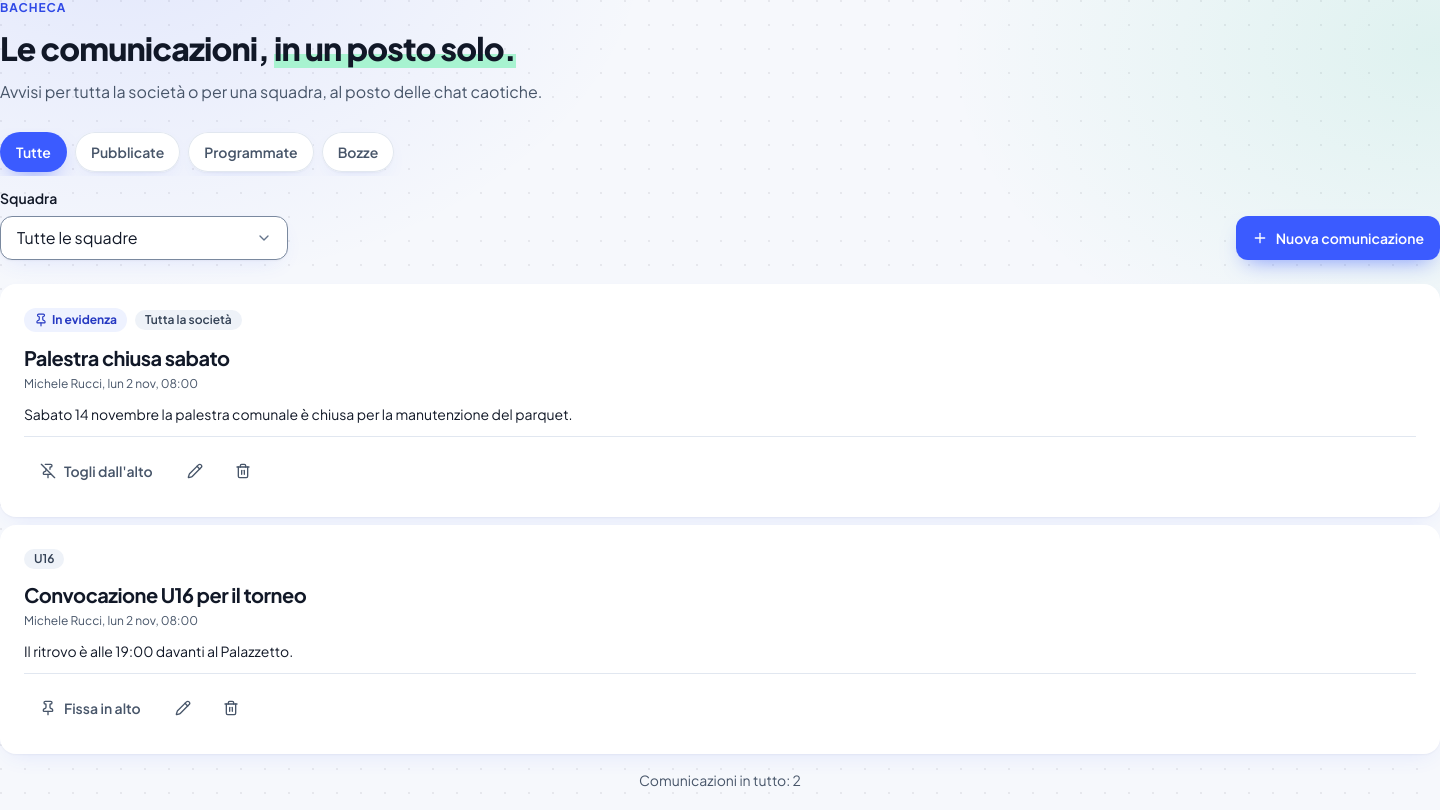
Test: BachecaPage as a manager › refuses a scheduled publication in the past
The image size is (1440, 810).
Click the button "Nuova comunicazione": (1338, 238) [1236, 216, 1439, 260]
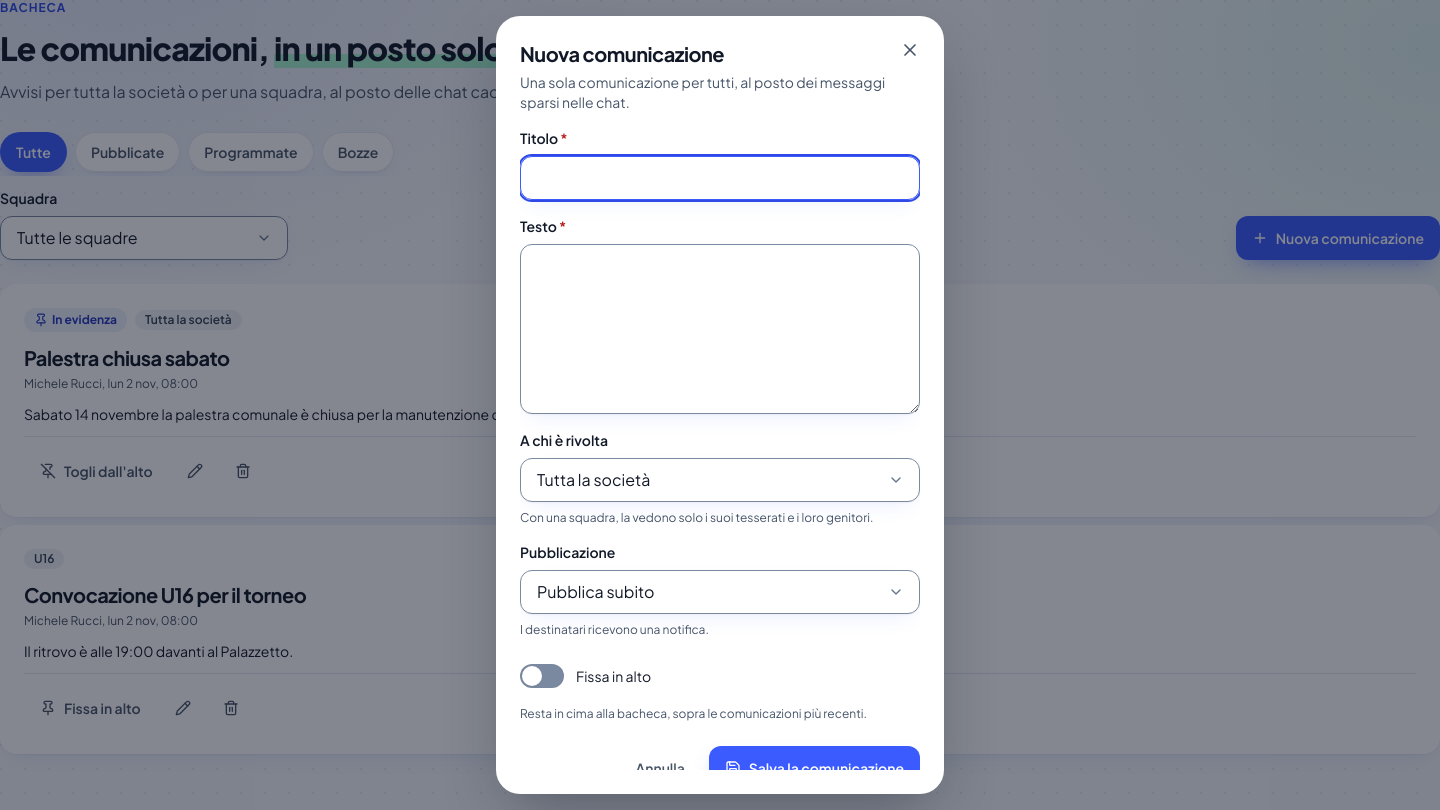
In the field labelled "Titolo*": (720, 178) [520, 156, 920, 200], type "Iscrizioni"
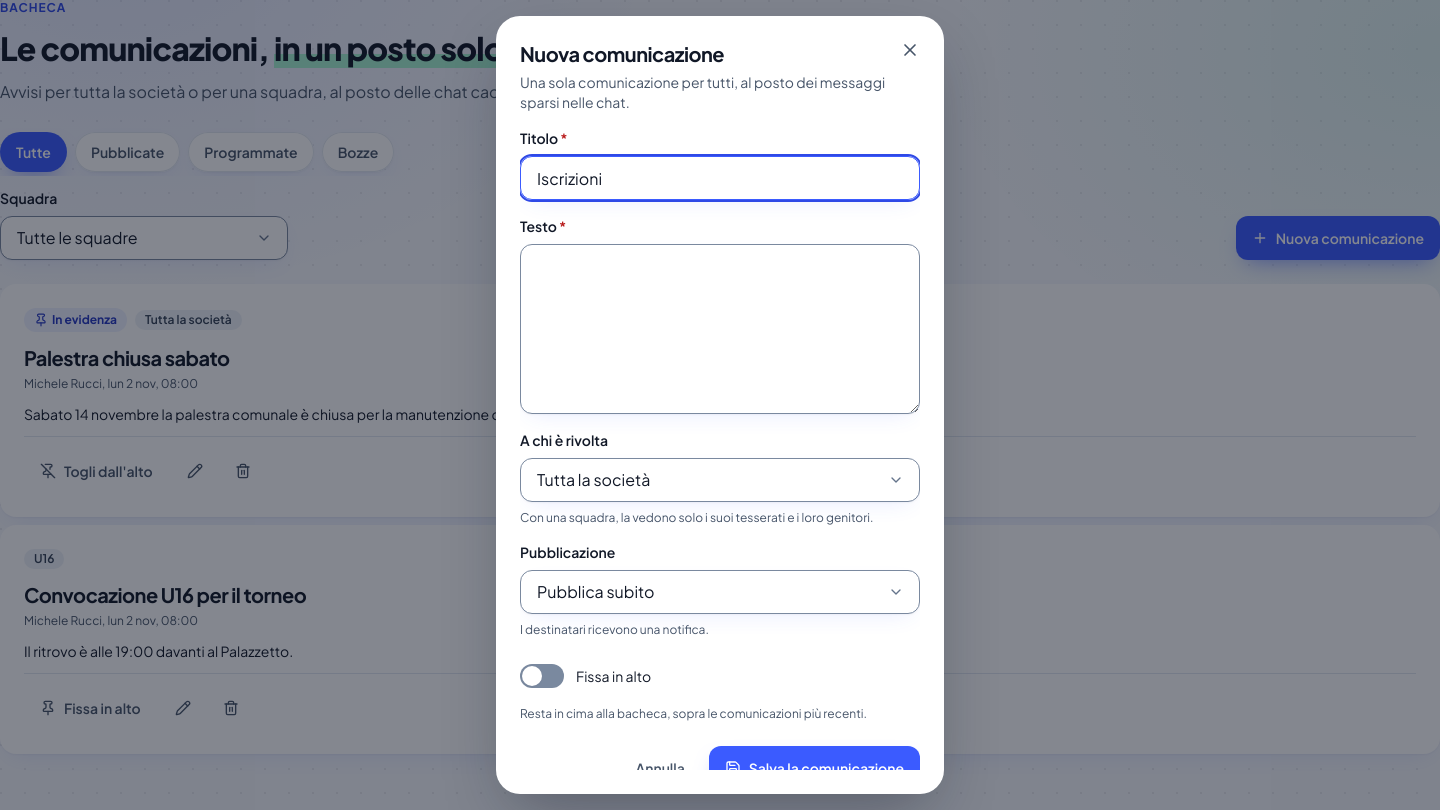
In the text box labelled "Testo*": (720, 329) [520, 244, 920, 414], type "Aperte da lunedì."
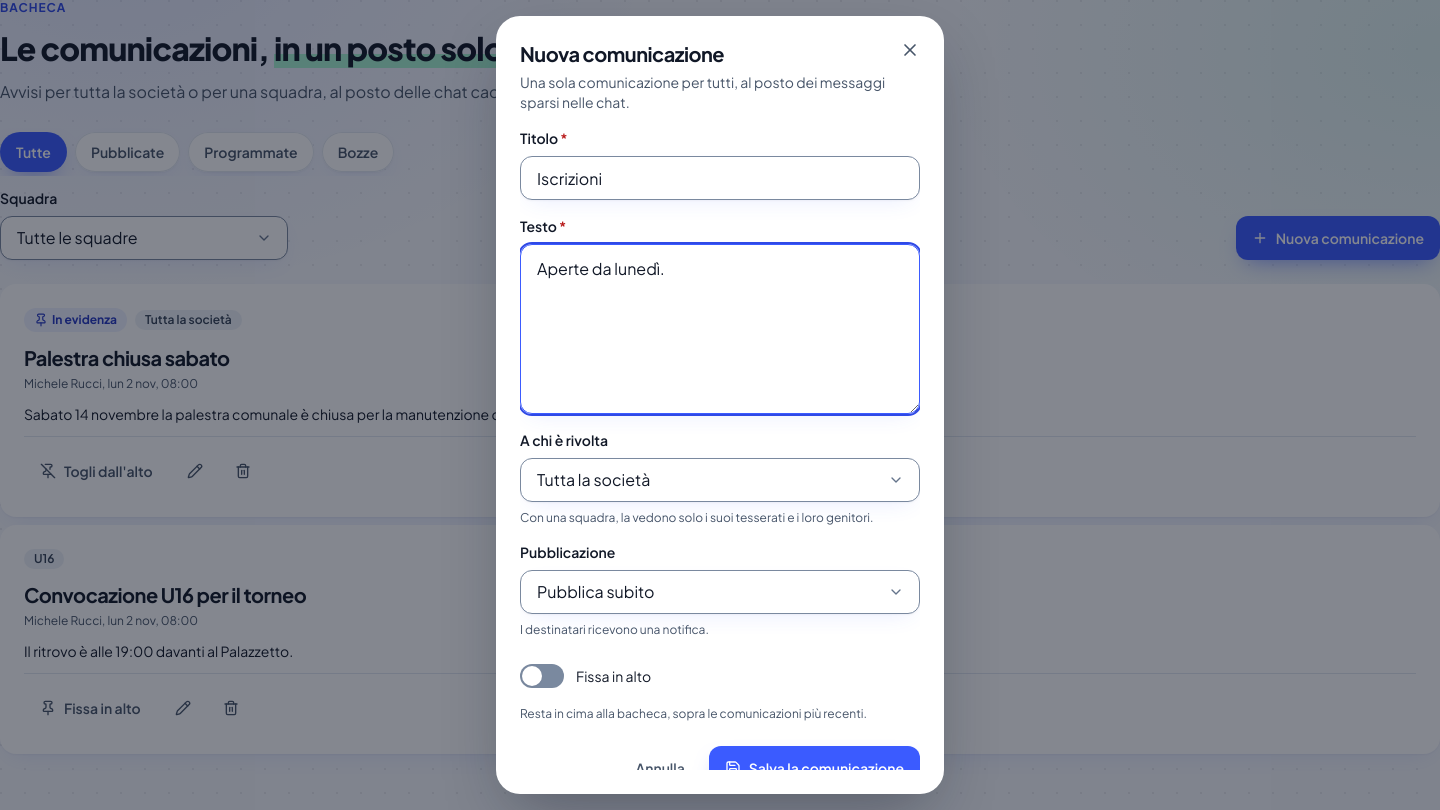
Select "Programma la pubblicazione" in the dropdown labelled "Pubblicazione": (720, 592) [520, 570, 920, 614]
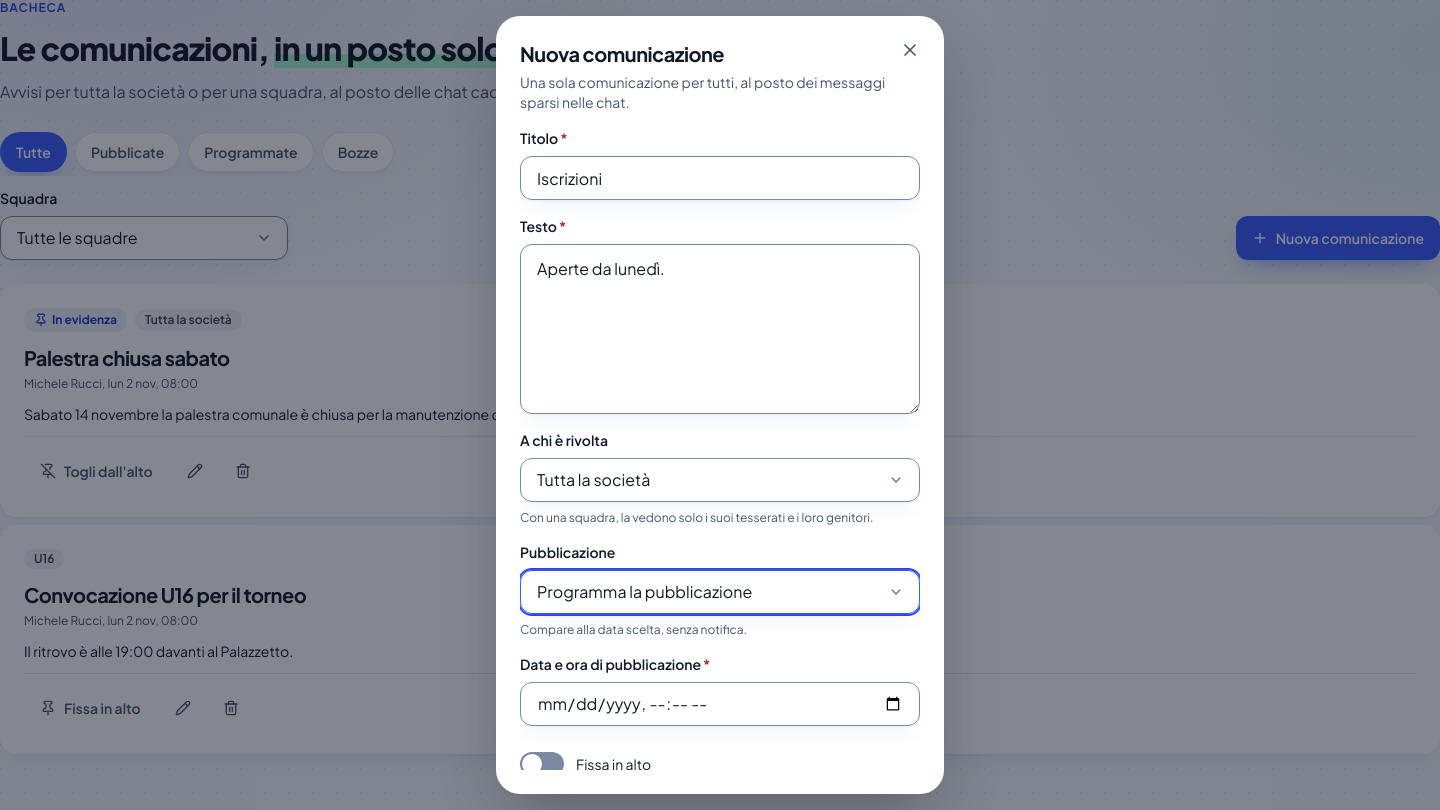
In the field labelled "Data e ora di pubblicazione*": (720, 704) [520, 682, 920, 726], type "2020-01-01T10:00"
(page scrolled)
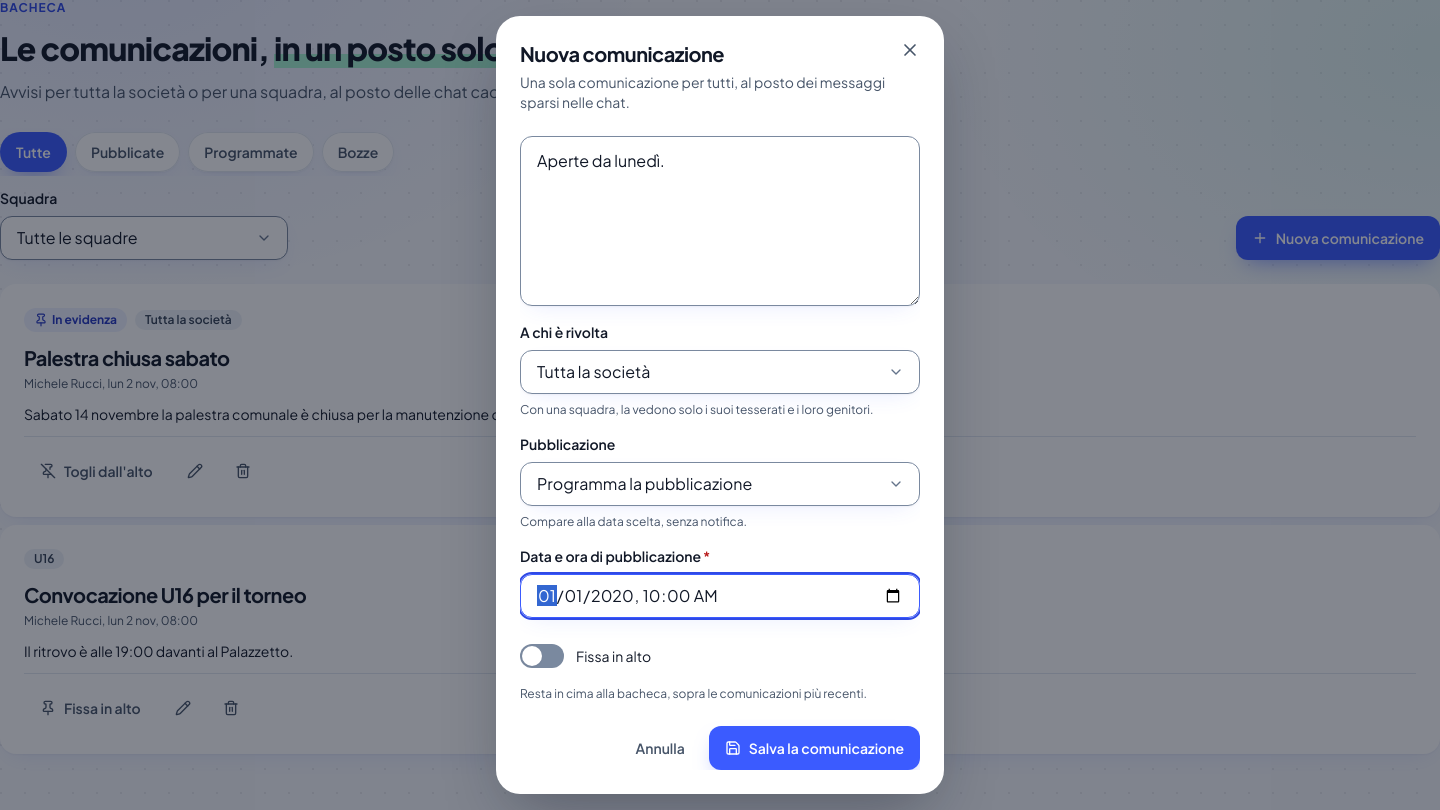
Click the button "Salva la comunicazione": (814, 748) [709, 726, 920, 770]
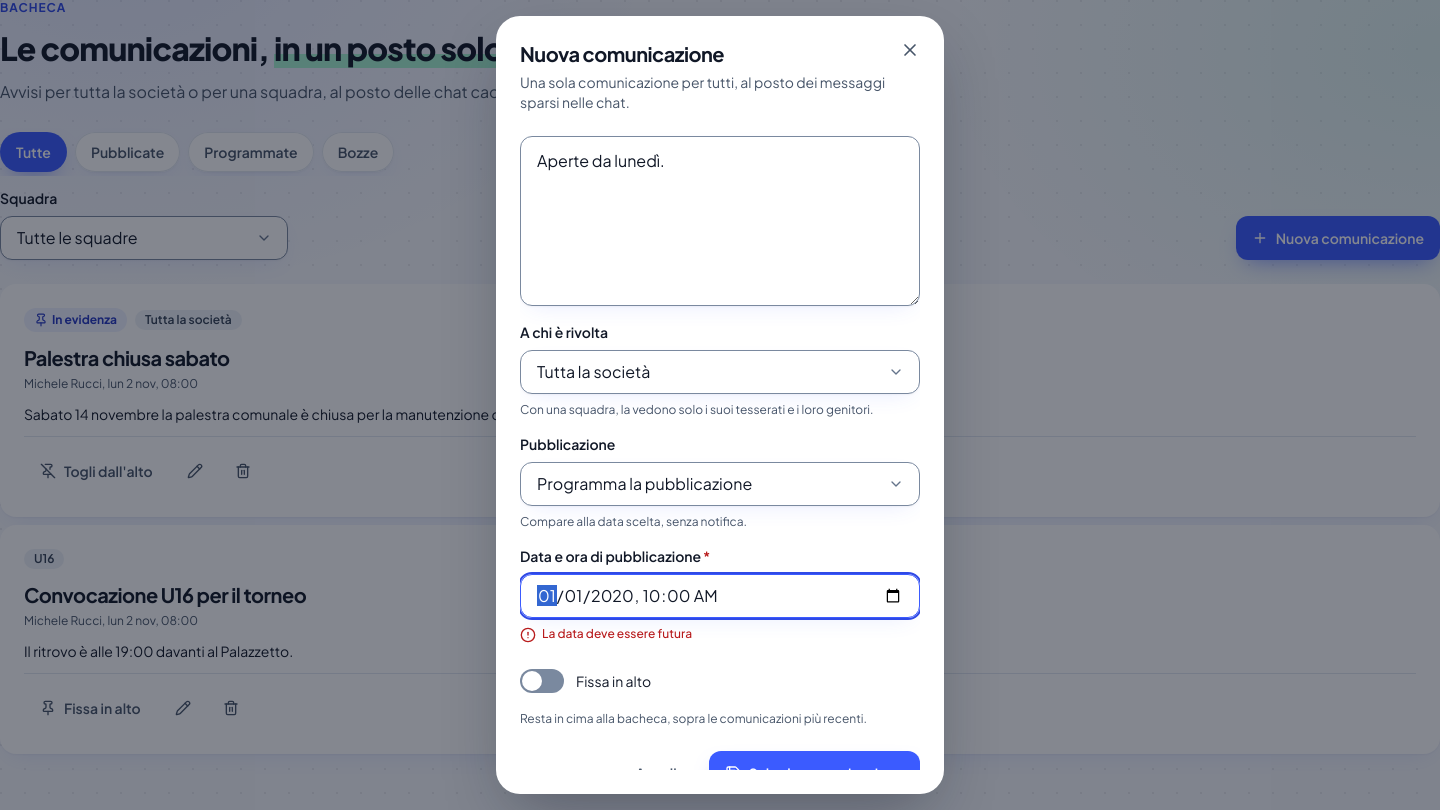
expect the text "La data deve essere futura" is shown: met, box [542, 626, 692, 642]
